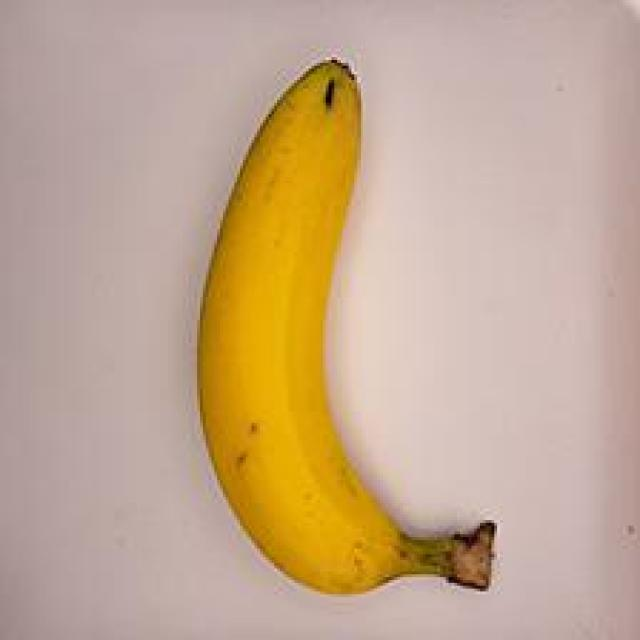Ripe: (174, 34, 530, 617)
